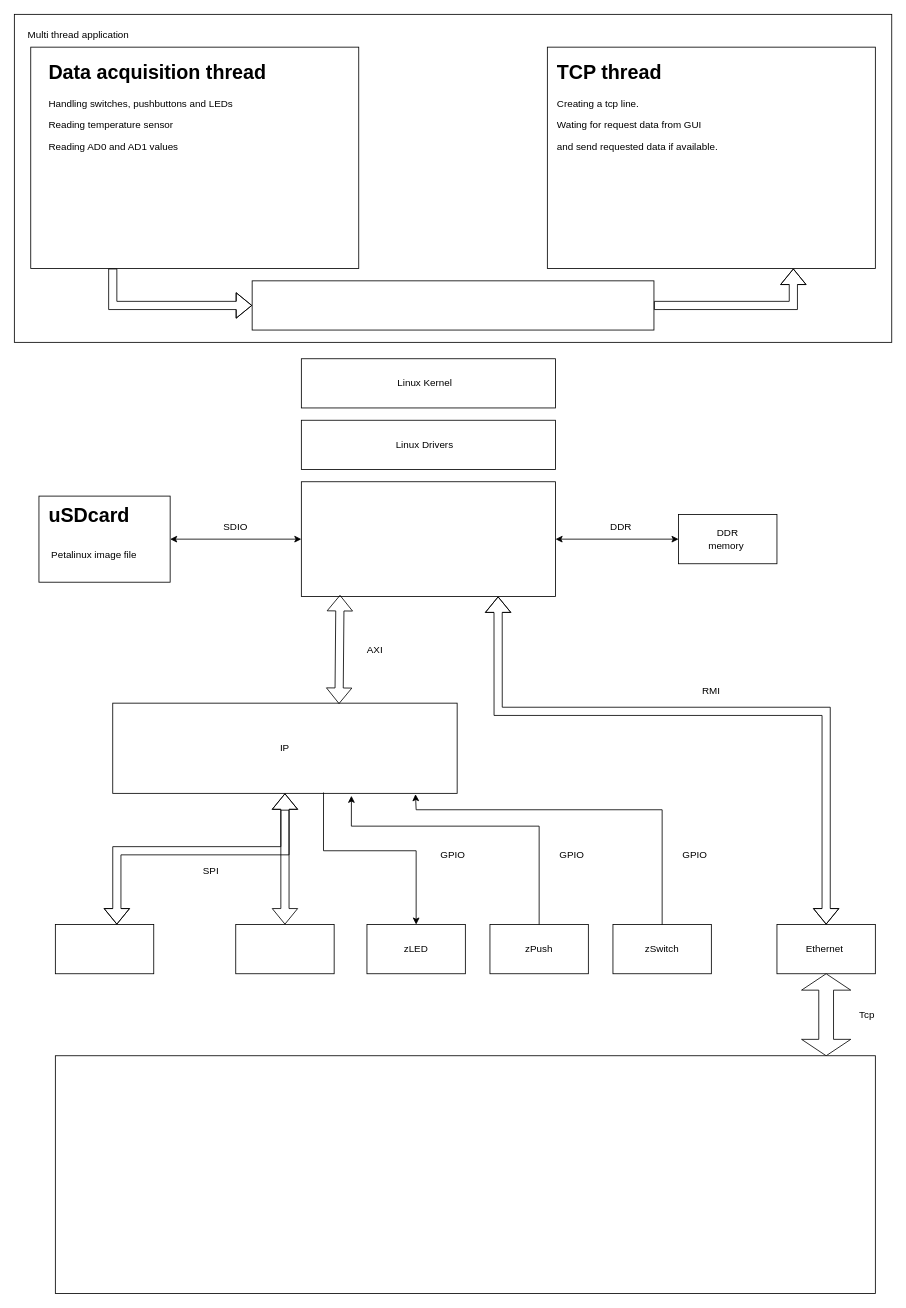
This 906x1308 diagram has some shape labels left out. The box of each missing label's shape, as (x1, y1, x2, y2) in pixels:
GUI: (55, 1055, 875, 1294)
MAX31865PMB1: (55, 924, 154, 974)
PmodAD1: (235, 924, 334, 974)
Ring buffer: (251, 280, 654, 330)
ZYNQ: (301, 481, 556, 597)
